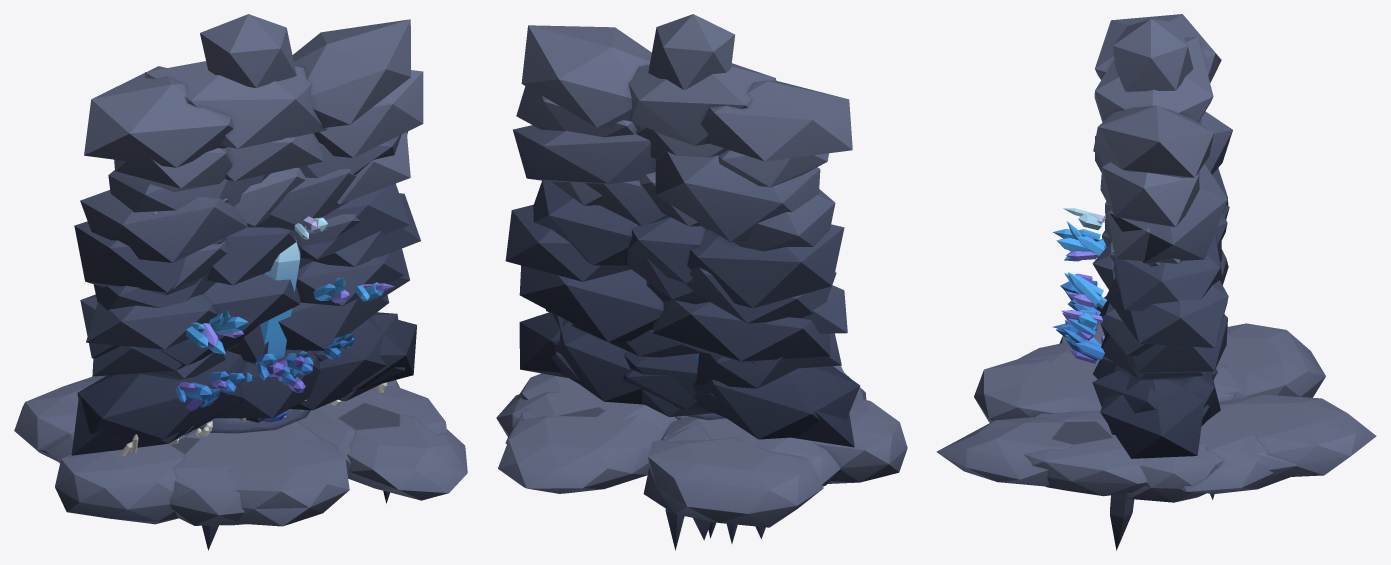
File: Kit.fbx
The picture shows the model from 3 angles, left to right: view 1: azimuth 30°, elevation 25°; view 2: azimuth 150°, elevation 25°; view 3: azimuth 270°, elevation 25°; orthographic projection. The views are drawn at different scales.
Parts seen in each view (by area): view 1: CaveRockC, CaveRockA, CeilingRockB, CaveRockB, CeilingRockA, RockPillar, CrystalSpireTall, FloorMound, WallCrest; view 2: CaveRockC, CaveRockA, CeilingRockA, CeilingRockB, CaveRockB, RockPillar; view 3: CaveRockC, CeilingRockB, CaveRockA, CeilingRockA, RockPillar, CaveRockB.
Boxes of the visible parts, x1,y1,x2,y2 form: CaveRockC: [74, 19, 416, 439]; CaveRockA: [71, 70, 423, 455]; CeilingRockB: [188, 385, 467, 526]; CaveRockB: [86, 132, 410, 434]; CeilingRockA: [14, 375, 399, 550]; RockPillar: [200, 14, 296, 422]; CrystalSpireTall: [244, 238, 300, 381]; FloorMound: [195, 409, 310, 433]; WallCrest: [121, 382, 387, 456]; CaveRockC: [513, 25, 860, 439]; CaveRockA: [505, 86, 854, 447]; CeilingRockA: [496, 372, 907, 543]; CeilingRockB: [498, 365, 843, 550]; CaveRockB: [551, 172, 847, 418]; RockPillar: [648, 14, 734, 89]; CaveRockC: [1052, 14, 1232, 458]; CeilingRockB: [936, 359, 1376, 496]; CaveRockA: [1053, 118, 1229, 434]; CeilingRockA: [1016, 322, 1325, 550]; RockPillar: [1113, 19, 1193, 91]; CaveRockB: [1063, 208, 1210, 426].
Bounding box in the file's own units: 79.29 × 103 × 85.89.
13 materials, 12 textured.
